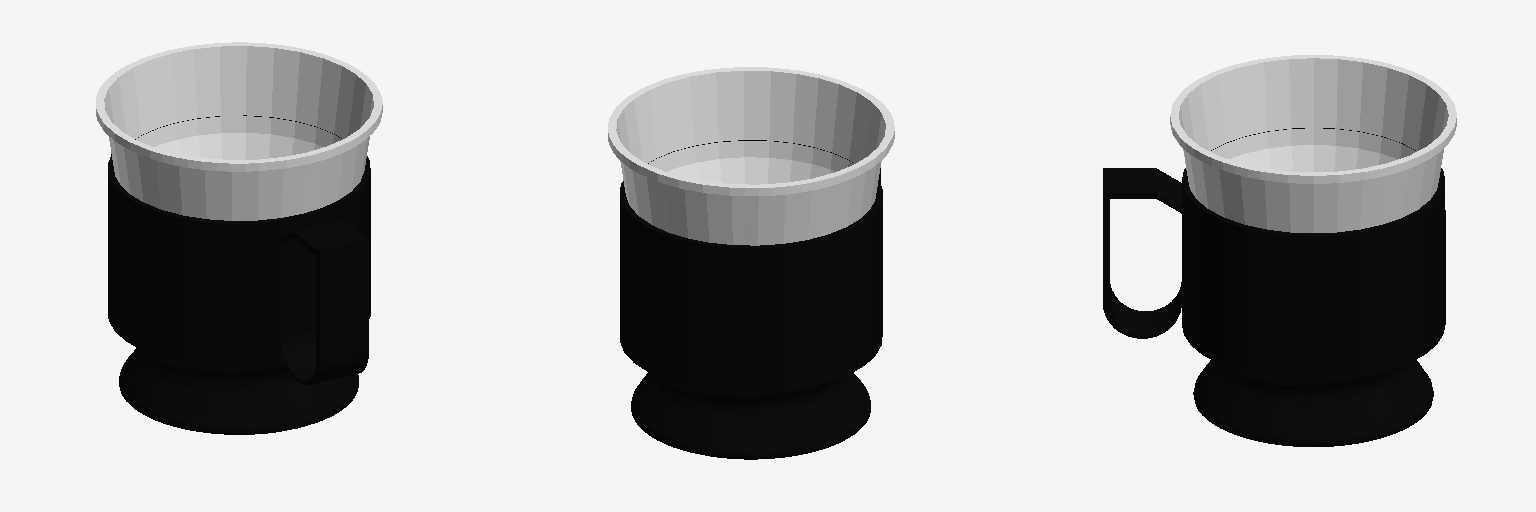
File: ASKUL.obj
3 renders of one model, left to right at view 1: azimuth 30°, elevation 25°; view 2: azimuth 150°, elevation 25°; view 3: azimuth 270°, elevation 25°, orthographic.
Parts seen in each view (by area): view 1: holder_1, cup_1; view 2: holder_1, cup_1; view 3: holder_1, cup_1.
Part boxes in pixels (left/top/right/bottom): holder_1: left=108, top=115, right=370, bottom=434; cup_1: left=96, top=42, right=382, bottom=220; holder_1: left=620, top=140, right=882, bottom=459; cup_1: left=608, top=67, right=894, bottom=245; holder_1: left=1103, top=128, right=1445, bottom=446; cup_1: left=1170, top=55, right=1456, bottom=232.
Bounding box in the file's own units: 3.15 × 3.41 × 3.89.